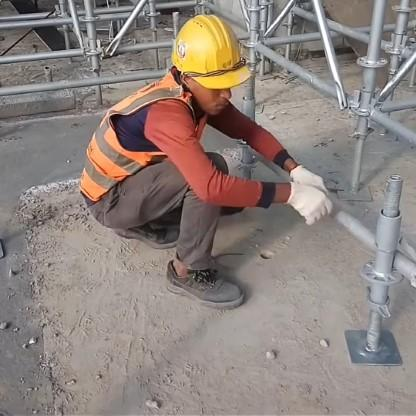helmet: (164, 6, 254, 124)
